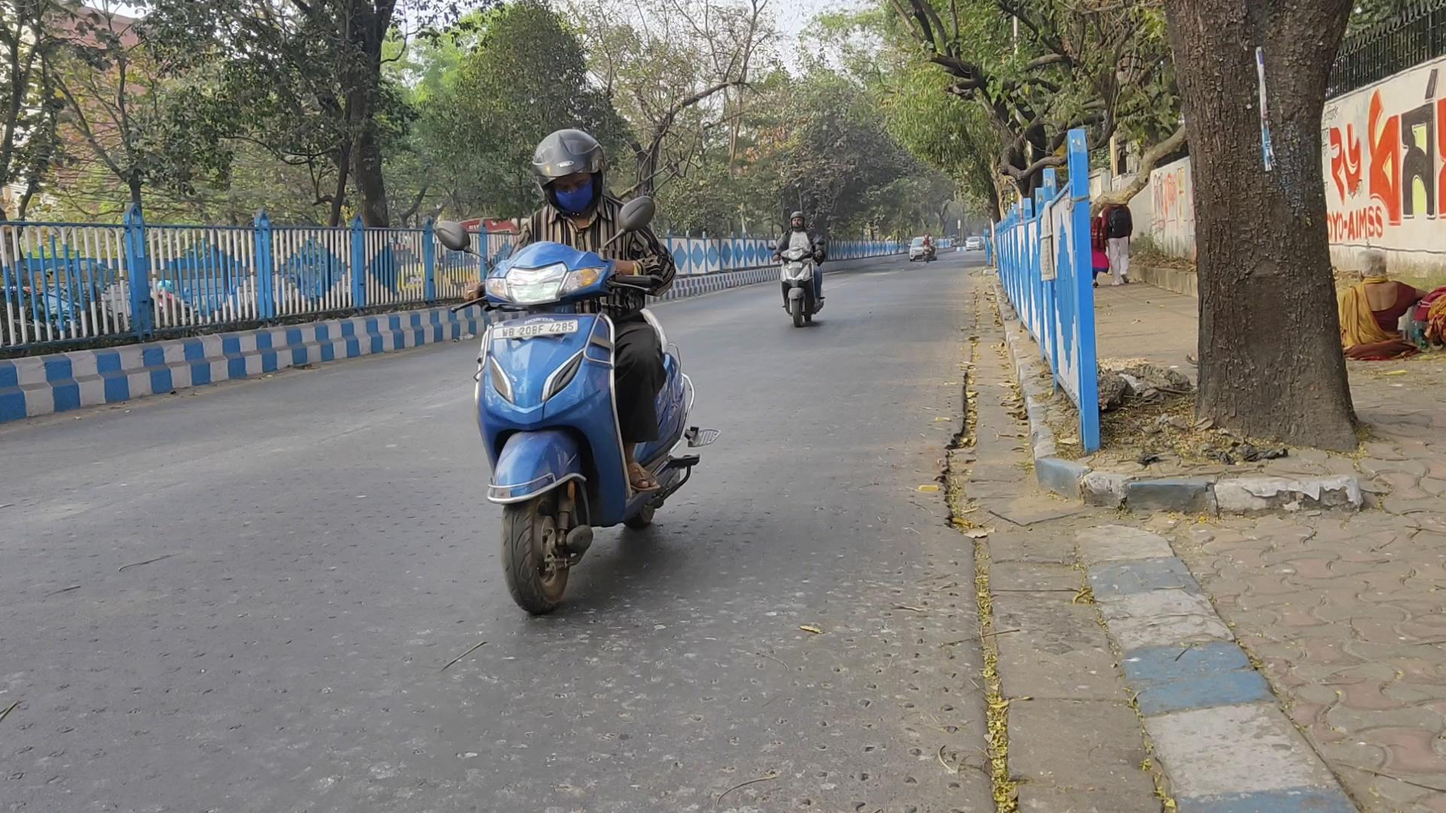bike: (438, 127, 721, 616), (769, 211, 827, 328), (921, 234, 933, 264)
car: (908, 235, 936, 262)
